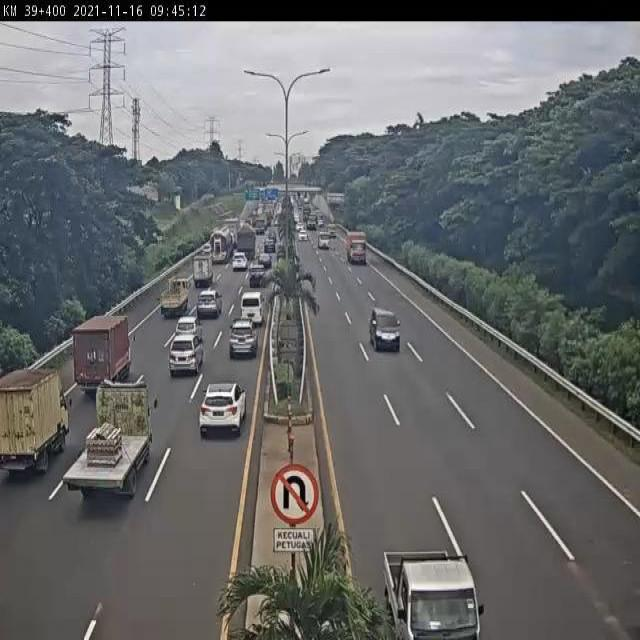car: (383, 549, 481, 640), (197, 381, 246, 439), (369, 307, 402, 353), (168, 333, 203, 375), (228, 320, 256, 360), (195, 291, 222, 324), (175, 316, 200, 341), (245, 264, 266, 288)
small bus: (239, 292, 261, 324)
small truck: (0, 371, 73, 476), (160, 280, 192, 320), (192, 253, 214, 287)
truck-m-: (64, 383, 150, 500), (75, 318, 136, 390)
